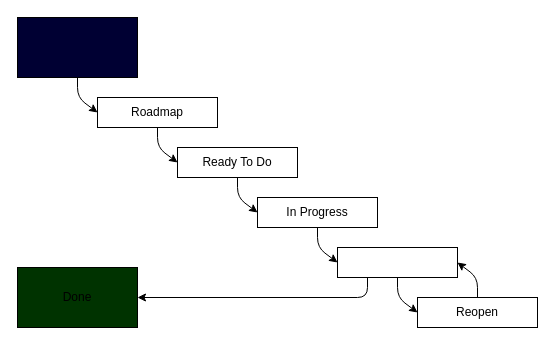
This 555x345 diagram has some shape labels left out. Each missing label, with the box of its shape:
Issue is created: (16, 16, 138, 78)
Test: (336, 246, 458, 278)
